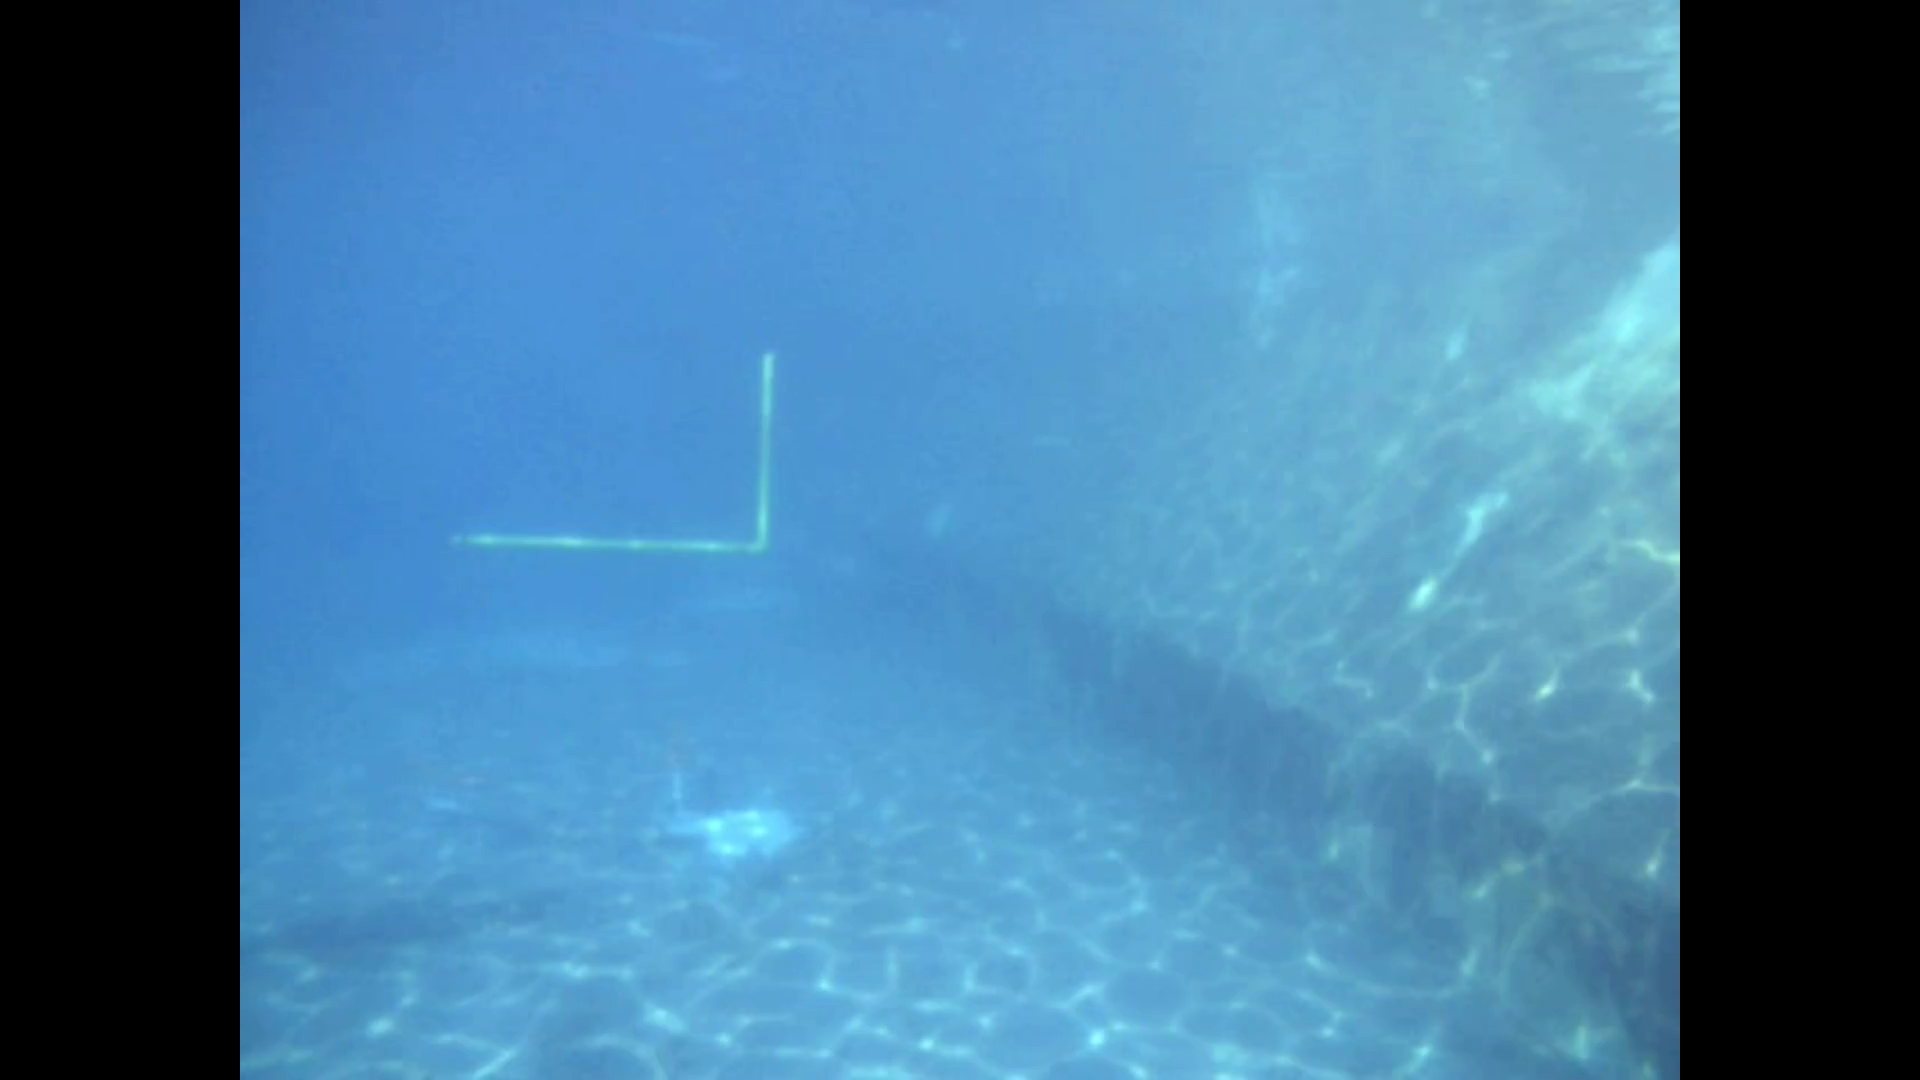gate: (434, 345, 783, 560)
